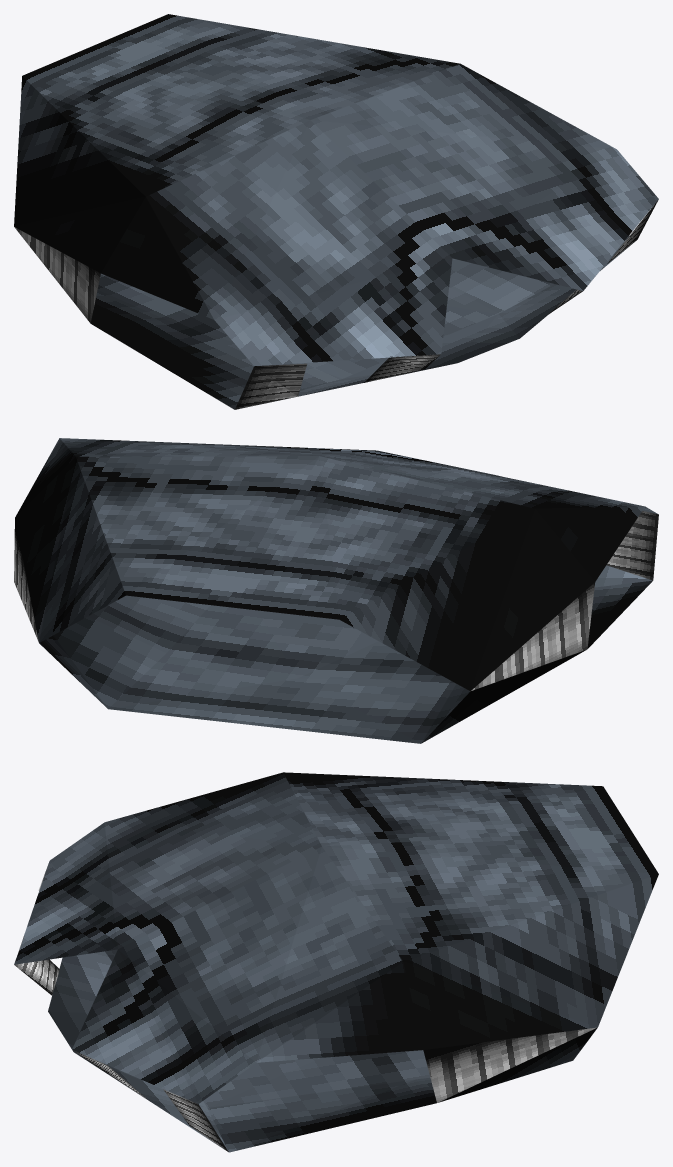
Rendered from primary_075.glb.
3 renders of one model, top to bottom at view 1: azimuth 30°, elevation 25°; view 2: azimuth 150°, elevation 25°; view 3: azimuth 270°, elevation 25°, orthographic. The views are drawn at different scales.
Parts seen in each view (by area): view 1: Object; view 2: Object; view 3: Object.
Part boxes in pixels (left/top/right/bottom): Object: left=14, top=14, right=658, bottom=409; Object: left=14, top=438, right=658, bottom=743; Object: left=14, top=772, right=658, bottom=1152.
Size of the model in its own units: 0.7108 by 0.2409 by 0.7263.
Materials: 7 (7 with a texture image).
